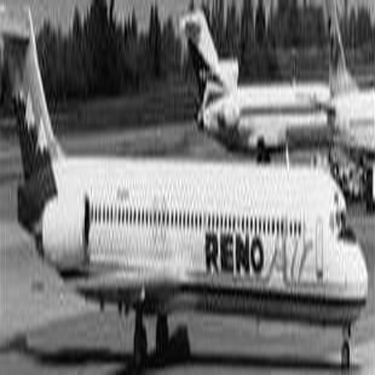airplane: (11, 19, 364, 346), (161, 2, 337, 153)
